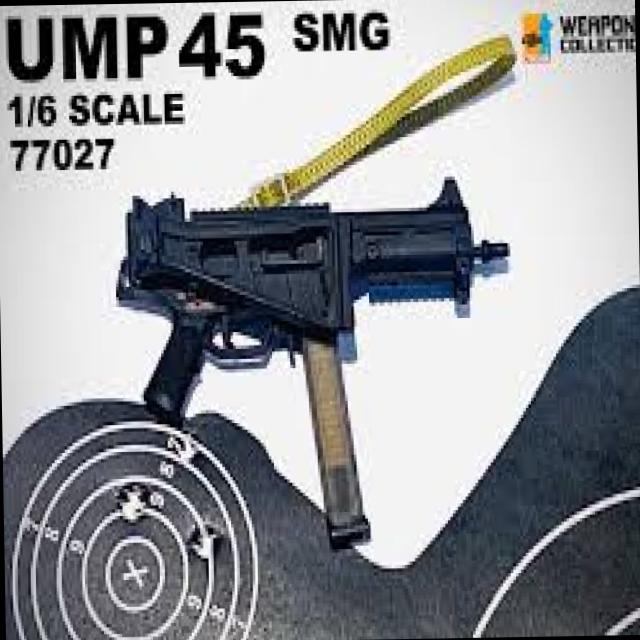Gun: (115, 162, 522, 574)
